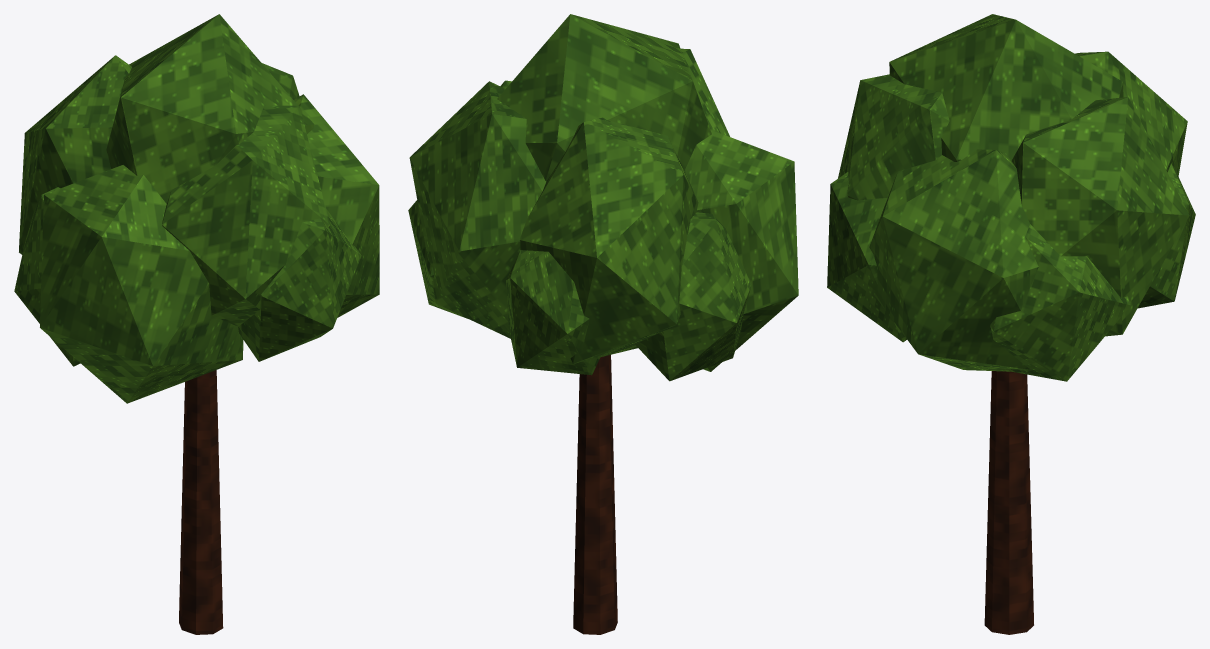
The model's file is nodo-tree-oak-v2-JcL_rbHi.glb.
3 views of the same model, side by side, from view 1: azimuth 30°, elevation 25°; view 2: azimuth 150°, elevation 25°; view 3: azimuth 270°, elevation 25° (orthographic). The views are drawn at different scales.
Parts seen in each view (by area): view 1: nodo-tree-oak-v2-realista; view 2: nodo-tree-oak-v2-realista; view 3: nodo-tree-oak-v2-realista.
Part boxes in pixels (x1,y1,x2,y2): nodo-tree-oak-v2-realista: [14, 14, 379, 634]; nodo-tree-oak-v2-realista: [408, 14, 798, 634]; nodo-tree-oak-v2-realista: [827, 14, 1195, 634].
Size of the model in its own units: 18.35 by 31.03 by 16.82.
1 material, 1 textured.
